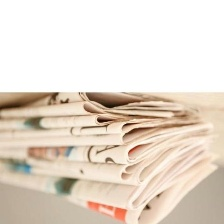news_paper: (0, 90, 220, 223)
